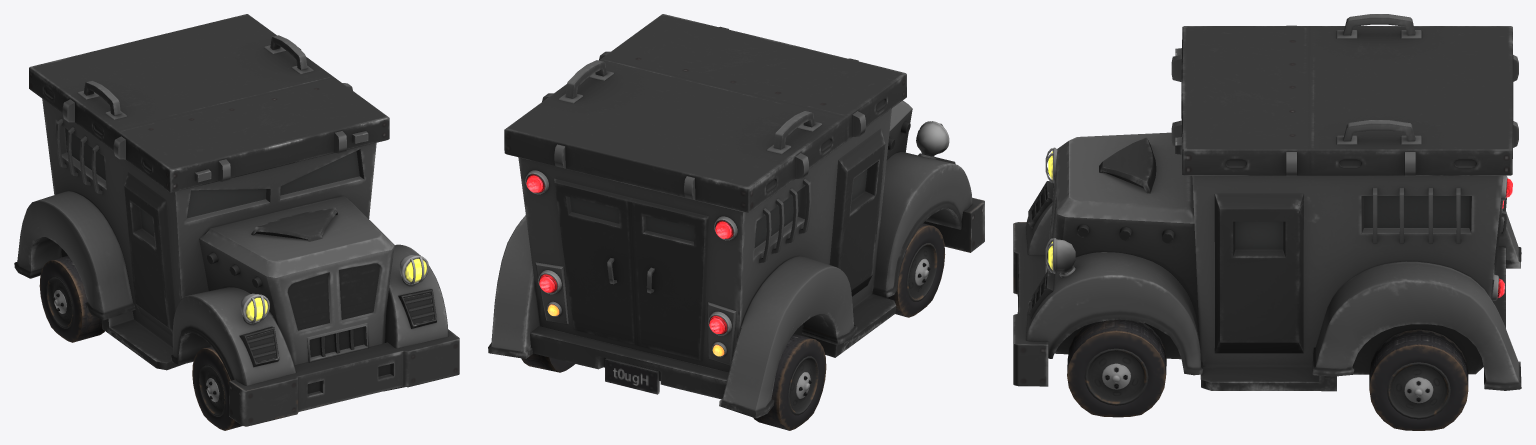
3 views of the same model, side by side, from view 1: azimuth 30°, elevation 25°; view 2: azimuth 150°, elevation 25°; view 3: azimuth 270°, elevation 25° (orthographic). The views are drawn at different scales.
Visible parts, largest first — view 1: ArmoredVan.1; view 2: ArmoredVan.1; view 3: ArmoredVan.1.
Boxes of the visible parts, <box> form: ArmoredVan.1: <box>14,14,459,430</box>; ArmoredVan.1: <box>488,14,984,430</box>; ArmoredVan.1: <box>1013,14,1521,430</box>.
Size of the model in its own units: 0.2921 by 0.2799 by 0.4338.
1 material, 1 textured.
